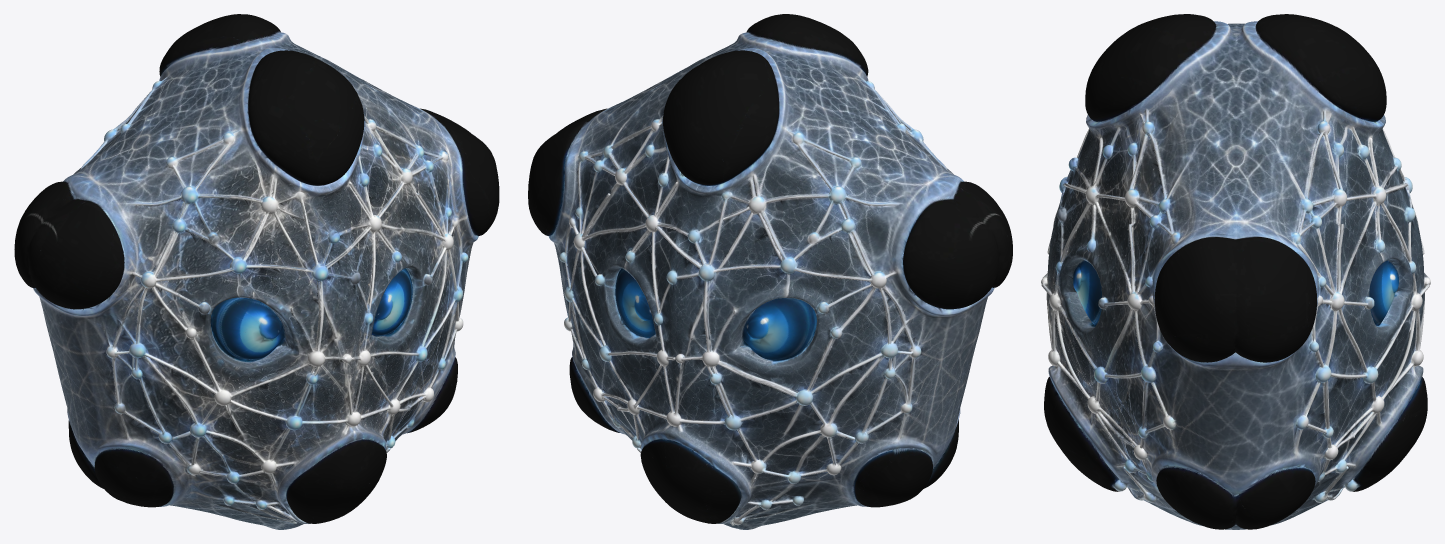
Rendered from pet-cube.glb.
The picture shows the model from 3 angles, left to right: view 1: azimuth 30°, elevation 25°; view 2: azimuth 150°, elevation 25°; view 3: azimuth 270°, elevation 25°; orthographic projection. The views are drawn at different scales.
Parts seen in each view (by area): view 1: Mesh_0.003; view 2: Mesh_0.003; view 3: Mesh_0.003.
Part boxes in pixels (left/top/right/bottom): Mesh_0.003: left=14, top=14, right=499, bottom=529; Mesh_0.003: left=528, top=14, right=1012, bottom=529; Mesh_0.003: left=1041, top=14, right=1430, bottom=529.
Size of the model in its own units: 0.151 by 0.15 by 0.1041.
Materials: 1 (1 with a texture image).
